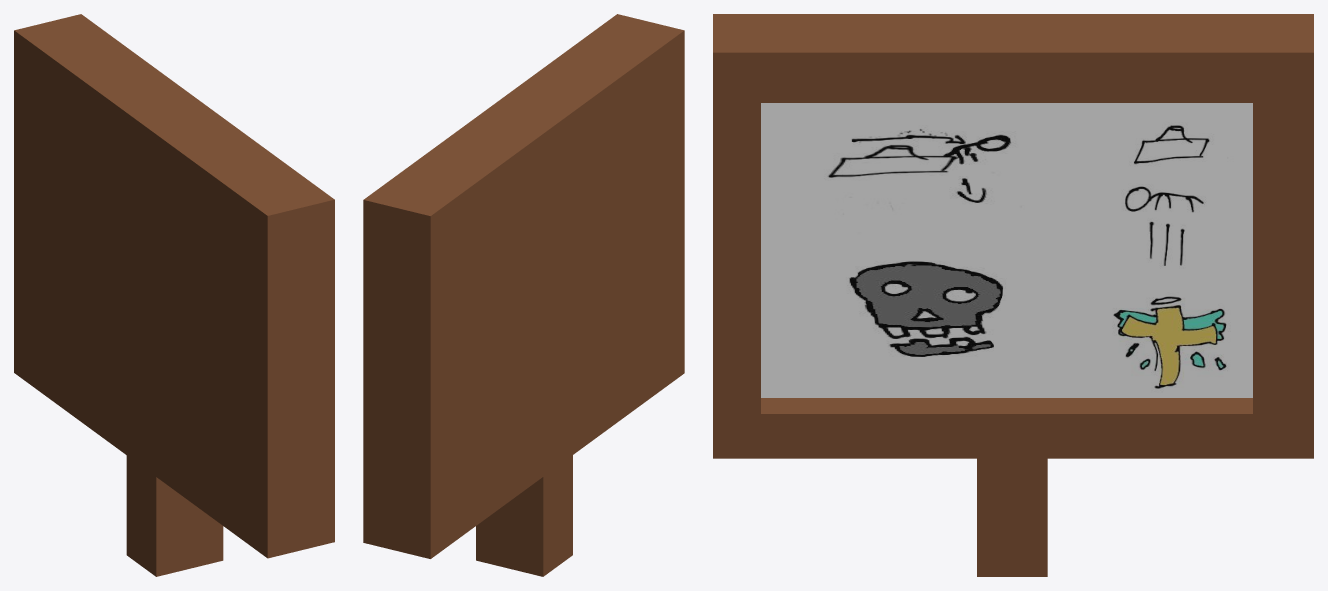
The model's file is CartelCheck.fbx.
3 views of the same model, side by side, from view 1: azimuth 30°, elevation 25°; view 2: azimuth 150°, elevation 25°; view 3: azimuth 270°, elevation 25° (orthographic). The views are drawn at different scales.
Visible parts, largest first — view 1: Cube; view 2: Cube; view 3: Cube.
Boxes of the visible parts, box(x1,y1,x2,y2) form: Cube: box(14, 14, 334, 576); Cube: box(363, 14, 684, 576); Cube: box(713, 14, 1313, 576).
Size of the model in its own units: 135 by 849 by 882.
